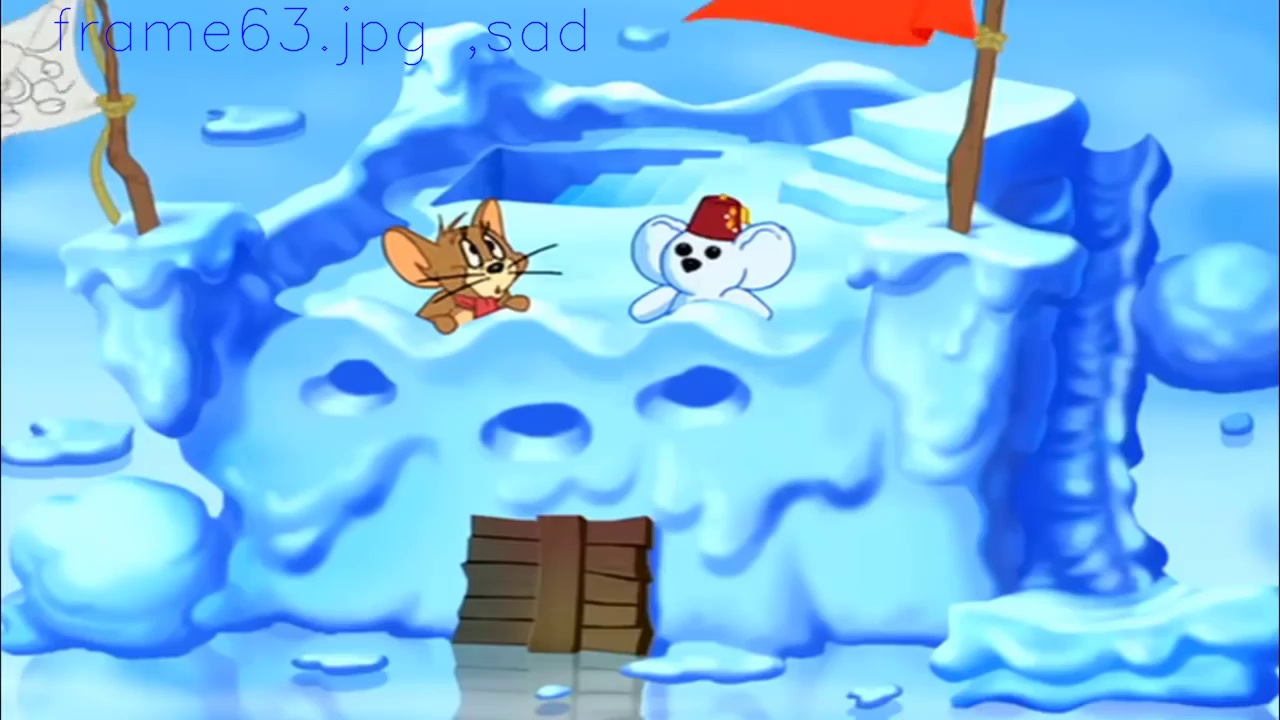surprised: (451, 232, 507, 298)
